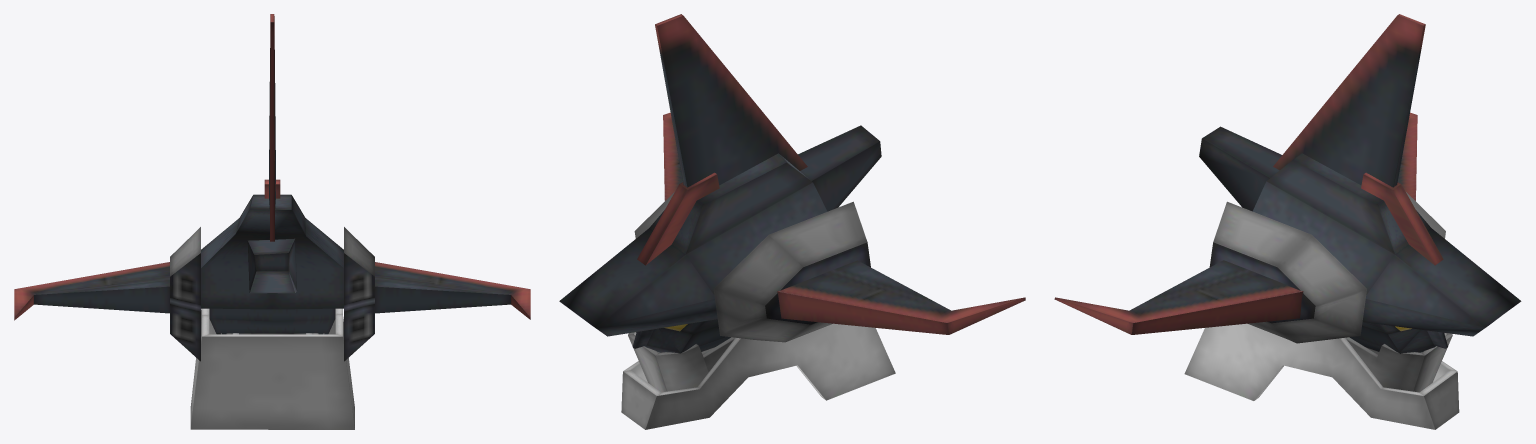
File: sandlot.ico.obj
3 views of the same model, side by side, from view 1: azimuth 30°, elevation 25°; view 2: azimuth 150°, elevation 25°; view 3: azimuth 270°, elevation 25° (orthographic). The views are drawn at different scales.
Bounding box in the file's own units: 3.9 × 3.16 × 3.39.
1 material, 1 textured.
